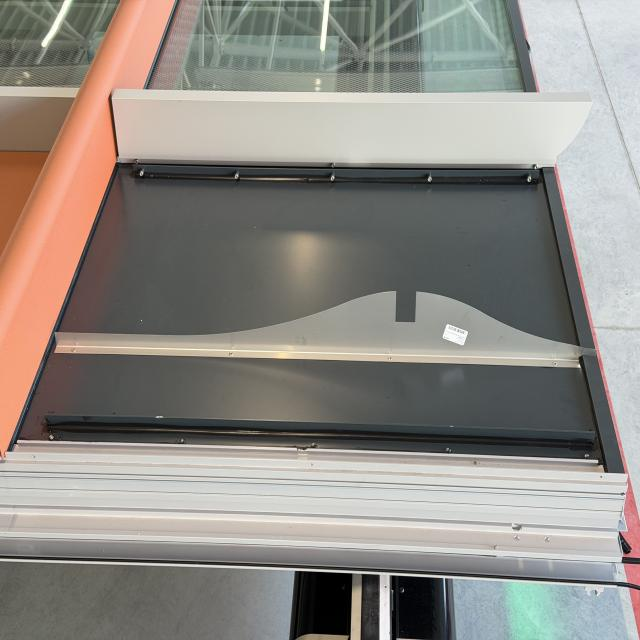lim_nedostaje: (58, 284, 607, 364)
